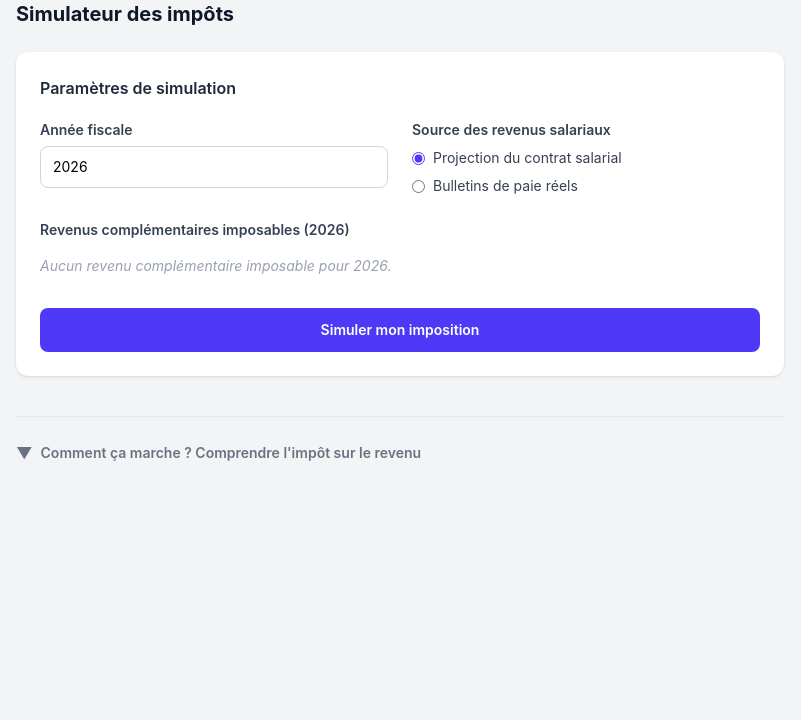
Scenario: TaxSimulatorPage › affiche le résultat après simulation réussie
The image size is (801, 720).
Click the button "Simuler mon imposition": [400, 330] box x1=40 y1=308 x2=760 y2=352
(page scrolled)
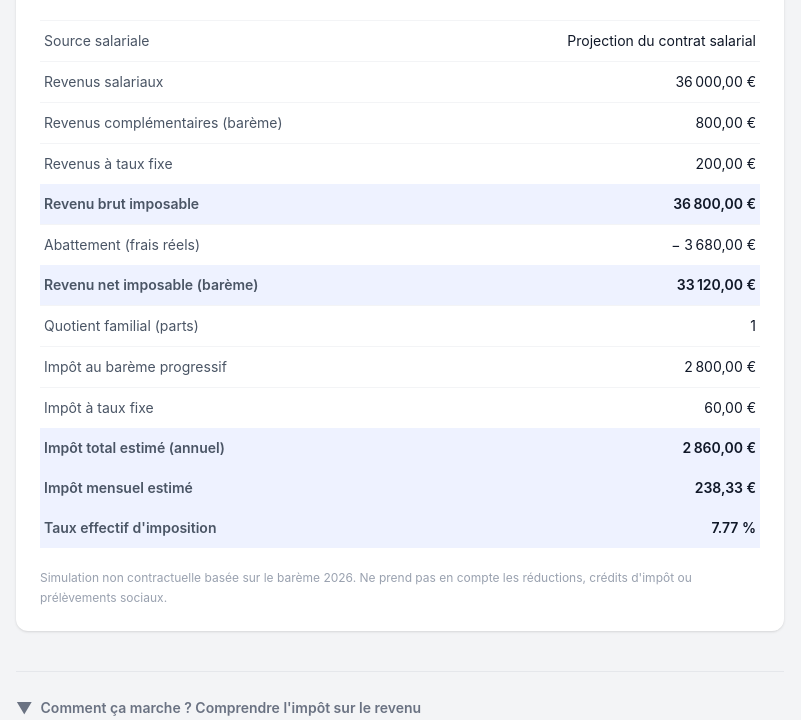
Expected: the text "Impôt total estimé (annuel)" is shown, x1=40 y1=428 x2=458 y2=468
